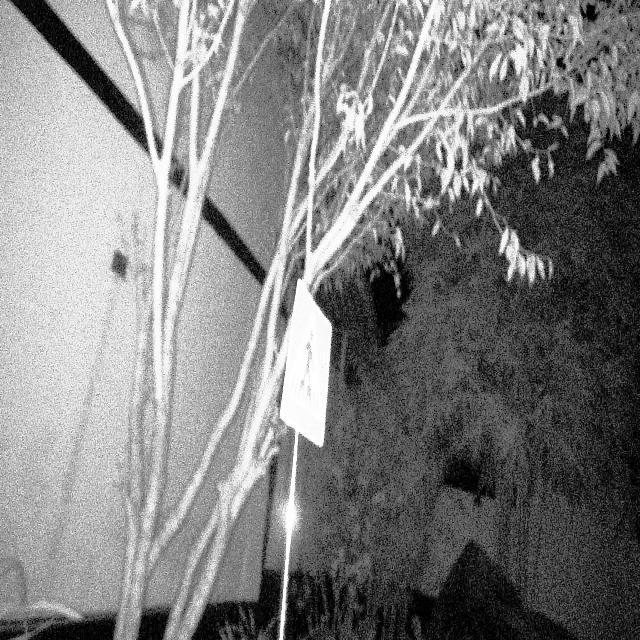Sign: (278, 277, 335, 451)
Tree: (104, 0, 265, 640)
